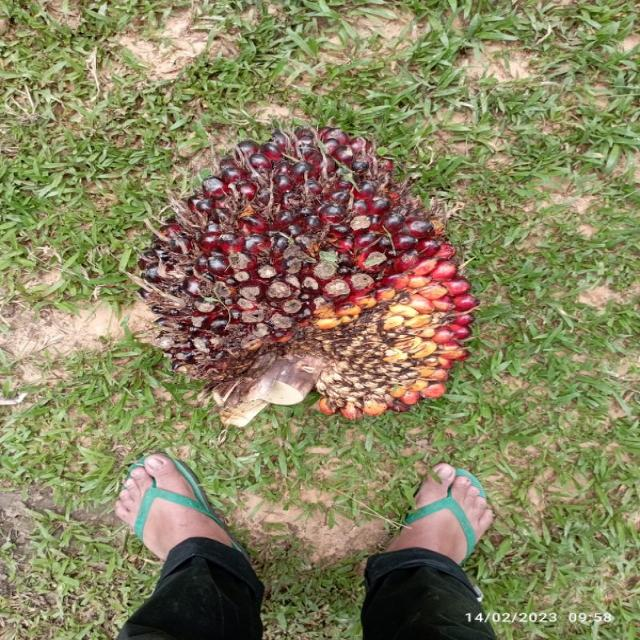fraksi 1: (104, 56, 490, 453)
